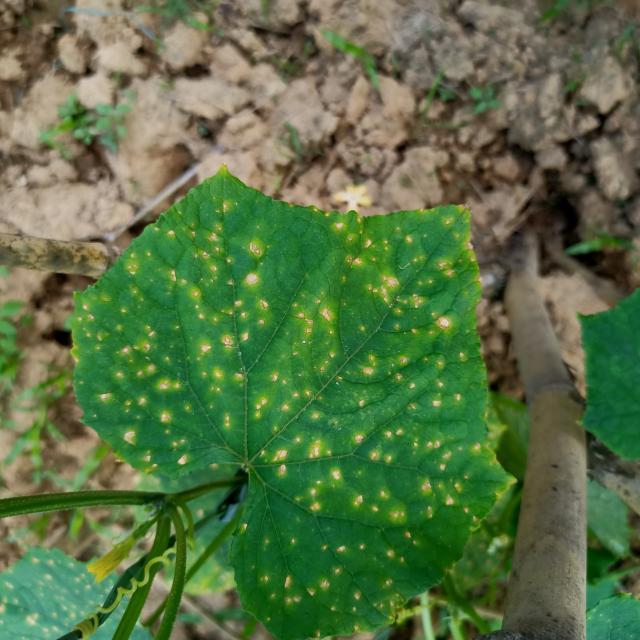disease_cucumber: (73, 208, 486, 623)
